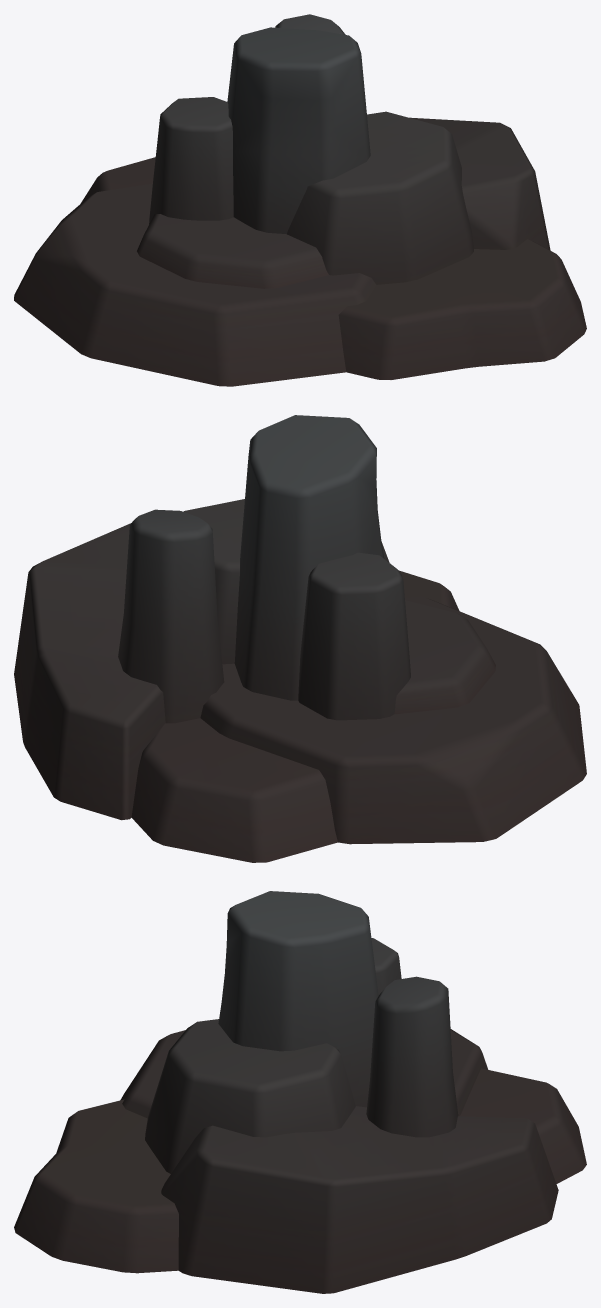
File: inferno-rock-mid-001.glb
3 views of the same model, one above another, from view 1: azimuth 30°, elevation 25°; view 2: azimuth 150°, elevation 25°; view 3: azimuth 270°, elevation 25° (orthographic). The views are drawn at different scales.
Parts seen in each view (by area): view 1: RockMid_001; view 2: RockMid_001; view 3: RockMid_001.
Boxes of the visible parts, x1,y1,x2,y2 form: RockMid_001: [14, 14, 586, 386]; RockMid_001: [14, 415, 586, 862]; RockMid_001: [14, 891, 586, 1293].
Bounding box in the file's own units: 12.58 × 6.4 × 12.68.
Materials: 1 (1 with a texture image).
